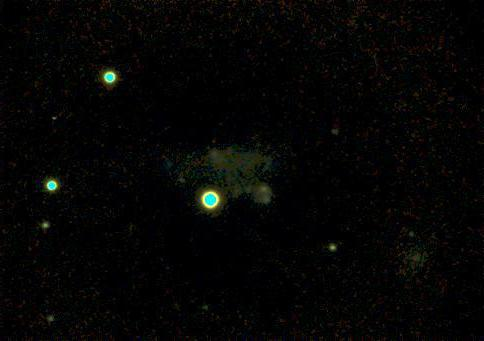star: (164, 169, 194, 199)
